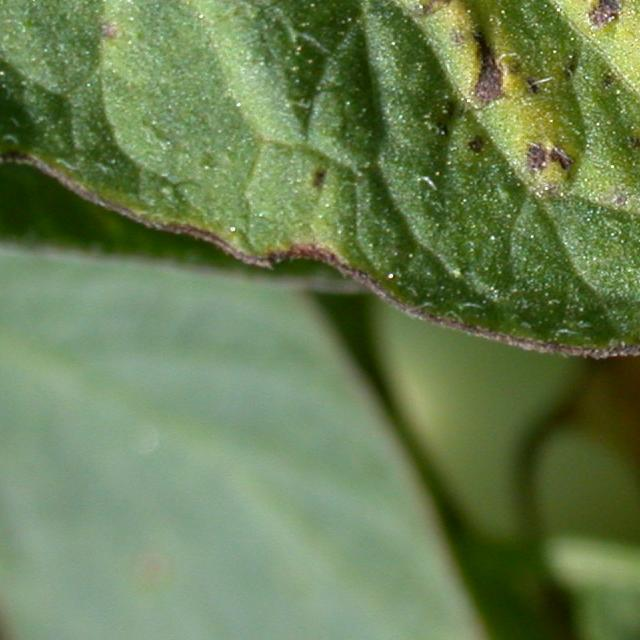Tomato leaf bacterial spot: (0, 0, 640, 323)
